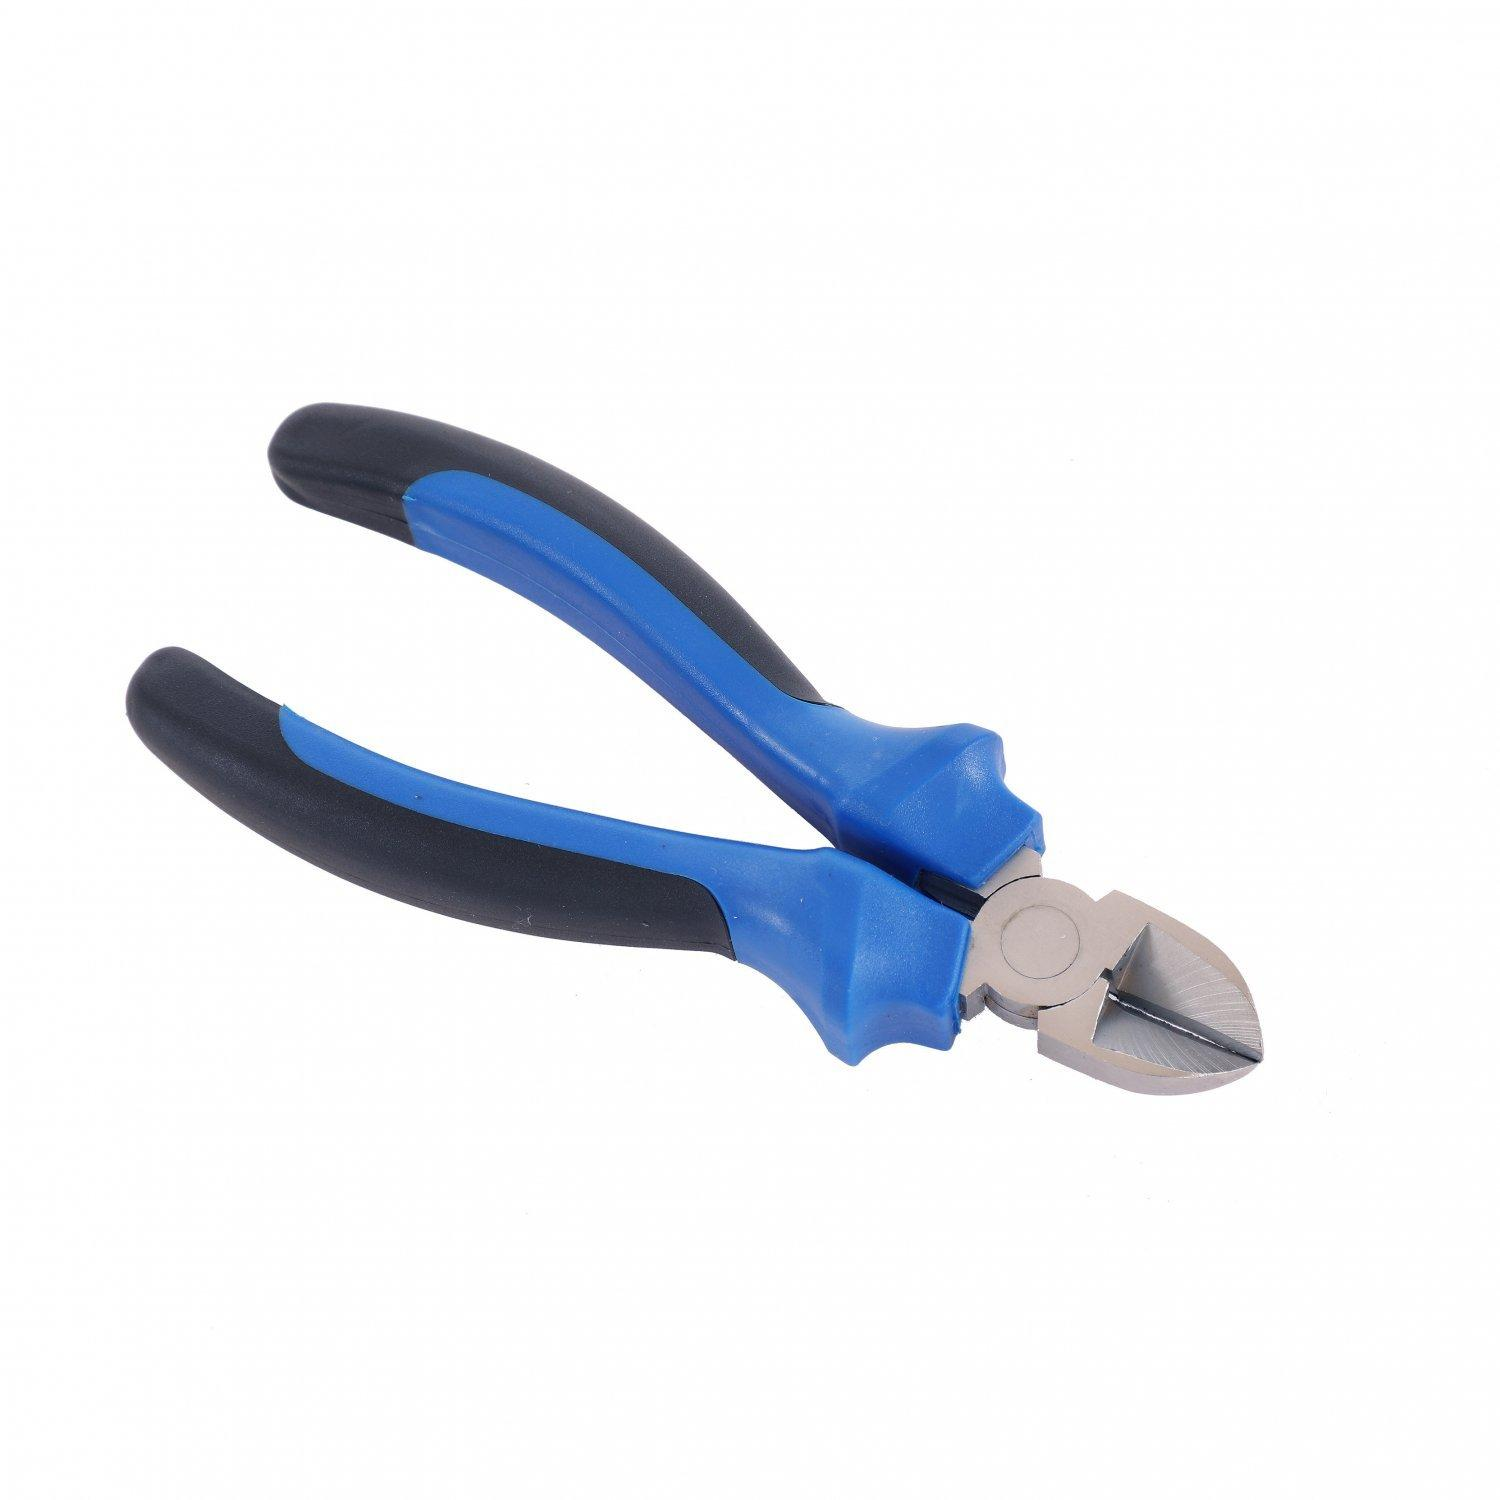Pliers: (102, 345, 1305, 1125)
